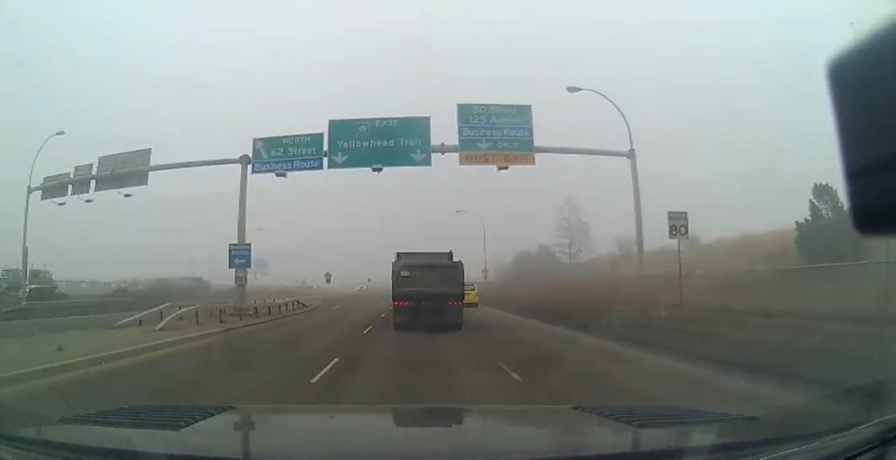bus: (390, 248, 466, 331)
car: (451, 282, 480, 308), (358, 284, 368, 293)
